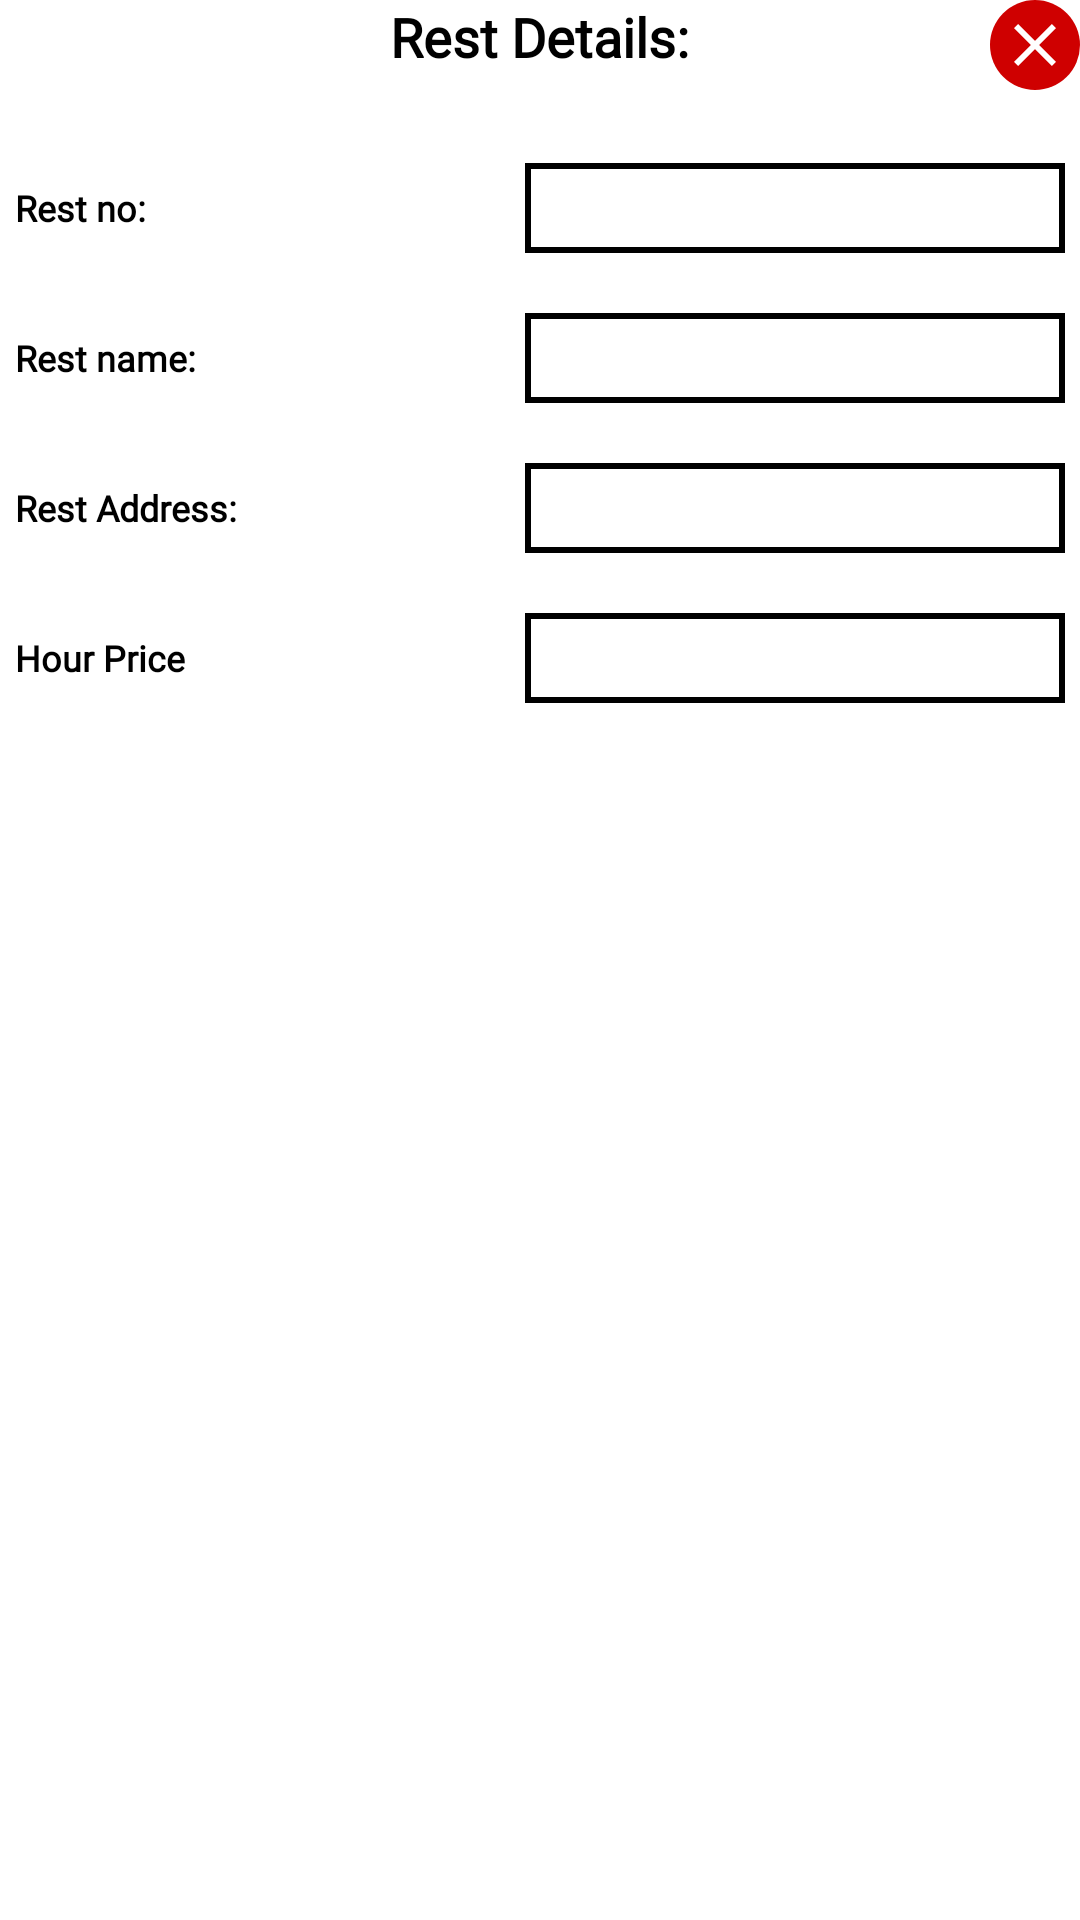

Icons on this 1080 x 1920 Android screen, each with the point to tap as point (x, y):
close: point (1035, 45)
